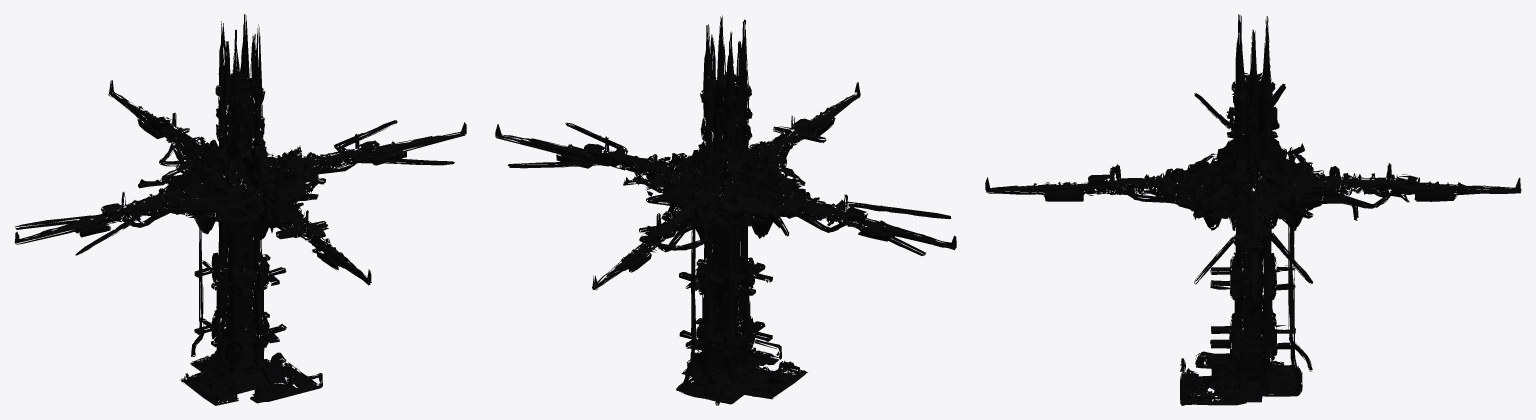
The model's file is kafrene-spire.glb.
The picture shows the model from 3 angles, left to right: view 1: azimuth 30°, elevation 25°; view 2: azimuth 150°, elevation 25°; view 3: azimuth 270°, elevation 25°; orthographic projection. The views are drawn at different scales.
Visible parts, largest first — view 1: low; view 2: low; view 3: low.
Part boxes in pixels (x1=…): low: x1=14, y1=14, x2=466, y2=405; low: x1=495, y1=15, x2=956, y2=405; low: x1=985, y1=14, x2=1521, y2=405.
Size of the model in its own units: 1 by 0.7501 by 1.
Materials: 1 (1 with a texture image).
